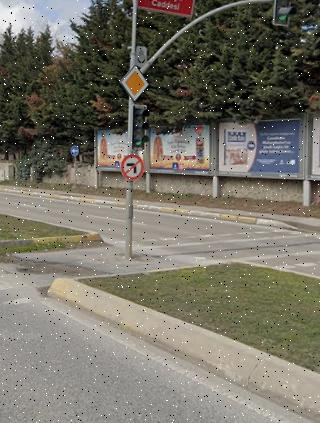leftturnsareforbidden: (121, 156, 141, 180)
